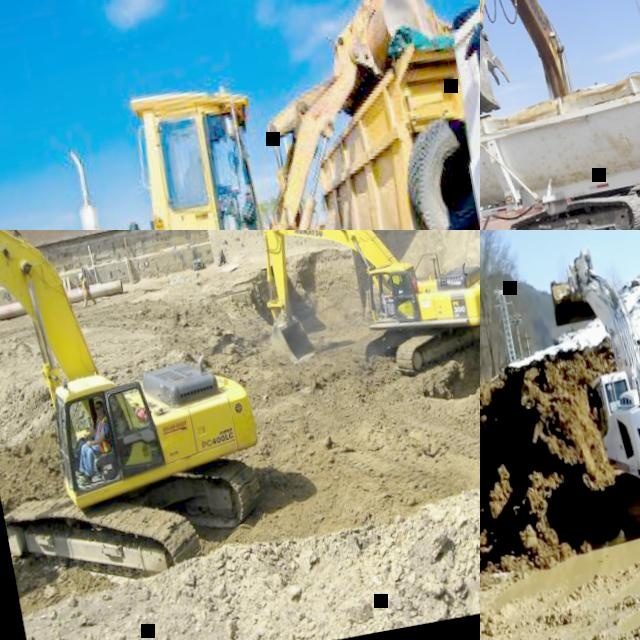Hardhat: (77, 271, 83, 278)
NO-Hardhat: (94, 399, 102, 405)
NO-Mask: (95, 408, 102, 415)
Person: (62, 399, 117, 485), (179, 143, 230, 209), (77, 269, 97, 307), (385, 279, 393, 300)
Safety Vest: (90, 416, 111, 453), (81, 277, 88, 290)
machinery: (0, 0, 480, 230), (0, 230, 276, 605), (278, 0, 480, 230), (245, 230, 480, 398), (480, 0, 640, 230), (480, 27, 640, 230), (541, 230, 640, 536)
